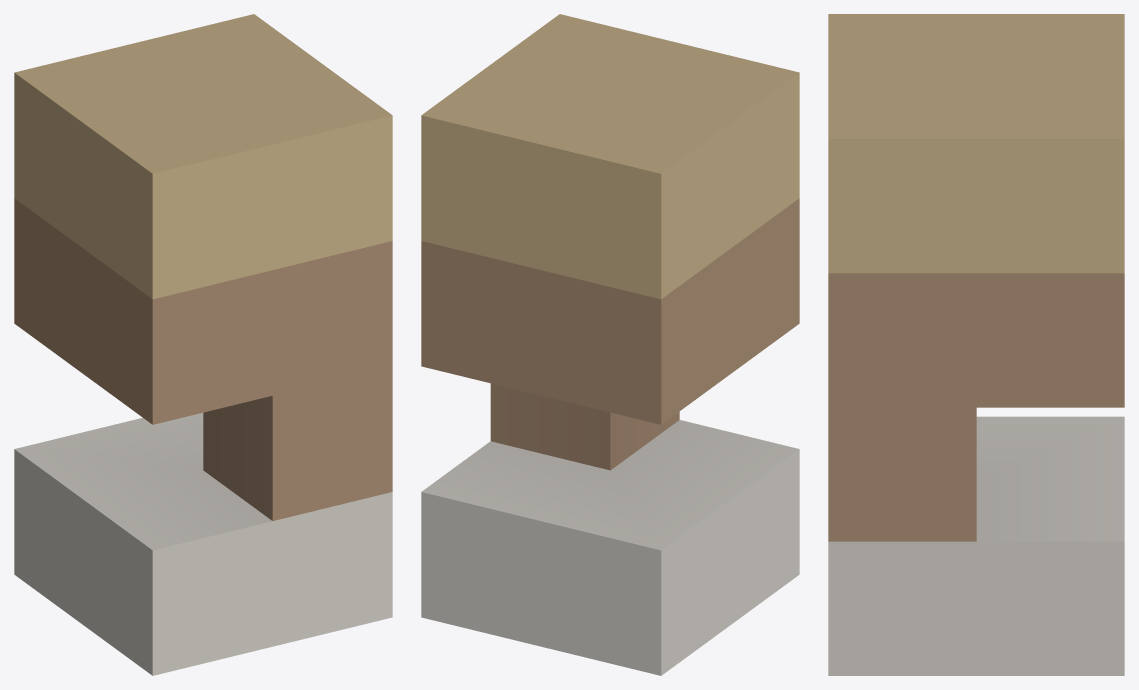
File: well.lite.glb
3 views of the same model, side by side, from view 1: azimuth 30°, elevation 25°; view 2: azimuth 150°, elevation 25°; view 3: azimuth 270°, elevation 25° (orthographic). The views are drawn at different scales.
Visible parts, largest first — view 1: well; view 2: well; view 3: well.
Part boxes in pixels (x1=…): well: x1=14, y1=14, x2=392, y2=675; well: x1=421, y1=14, x2=799, y2=675; well: x1=828, y1=14, x2=1124, y2=675.
Bounding box in the file's own units: 1 × 2 × 1.
